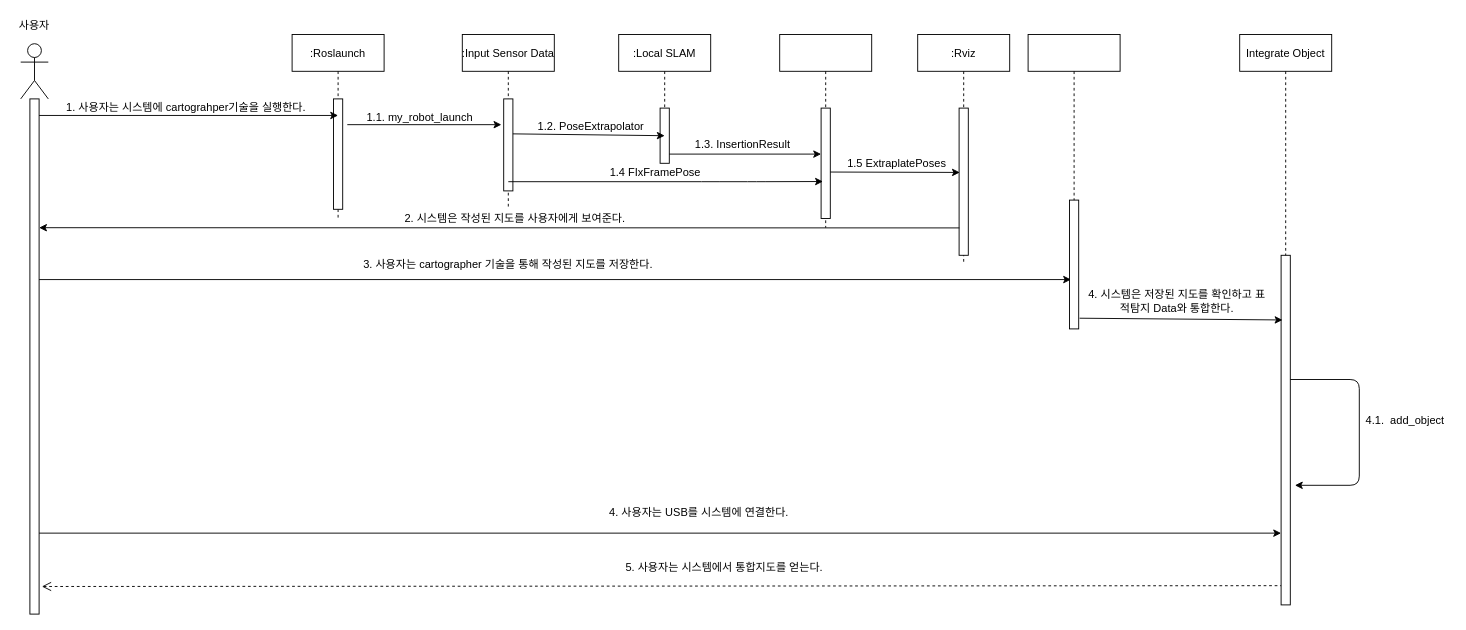
Some shapes in this 1466 by 630 pixel diagram are drawn without their labels. The box of each missing label's shape, as (x1, y1, x2, y2) in pixels:
:Grobal SLAM: (779, 34, 872, 228)
Save Rviz Image: (1027, 34, 1120, 310)
